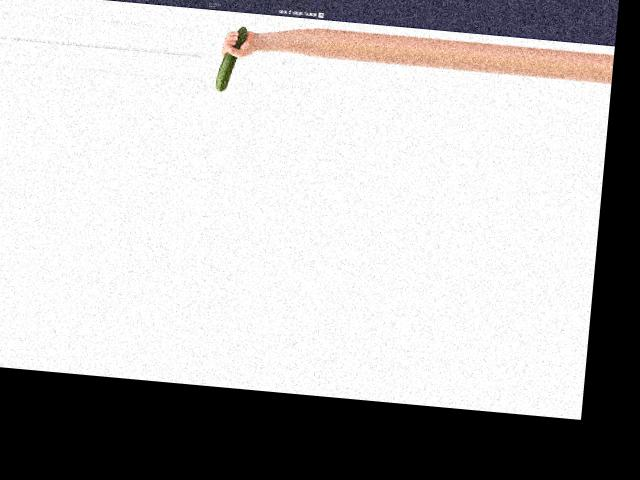cucumber: (214, 24, 246, 92)
